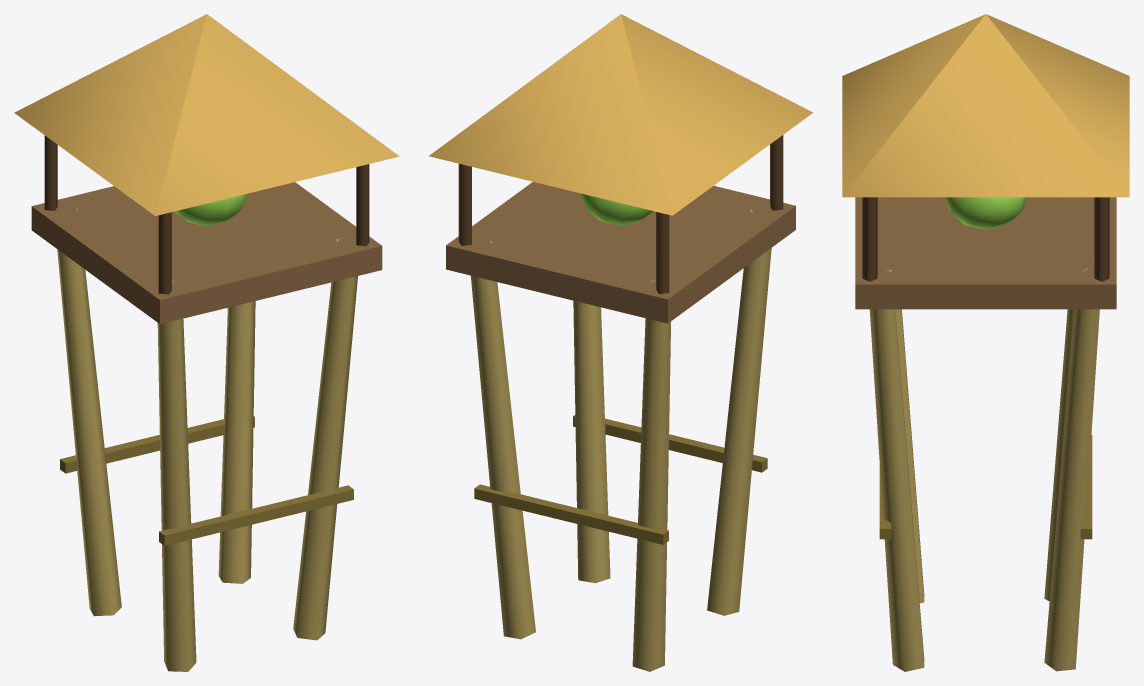
The model's file is level1.glb.
3 views of the same model, side by side, from view 1: azimuth 30°, elevation 25°; view 2: azimuth 150°, elevation 25°; view 3: azimuth 270°, elevation 25° (orthographic).
Parts seen in each view (by area): view 1: object 12, object 7, object 1, object 4, object 3, object 2, object 5, object 6, turret, object 10, object 11, object 8; view 2: object 12, object 7, object 3, object 2, object 1, object 4, object 6, object 5, turret, object 9, object 8, object 10; view 3: object 12, object 7, object 2, object 4, turret, object 1, object 3, object 9, object 11, object 6.
Boxes of the visible parts, x1,y1,x2,y2 form: object 12: [14, 14, 399, 215]; object 7: [31, 182, 382, 324]; object 1: [57, 208, 121, 616]; object 4: [293, 239, 357, 640]; object 3: [157, 280, 196, 671]; object 2: [218, 301, 255, 583]; object 5: [159, 485, 353, 545]; object 6: [60, 416, 254, 473]; turret: [174, 193, 247, 226]; object 10: [158, 212, 171, 294]; object 11: [356, 164, 369, 246]; object 8: [44, 135, 57, 210]; object 12: [429, 14, 813, 215]; object 7: [446, 182, 795, 323]; object 3: [707, 209, 771, 615]; object 2: [470, 239, 535, 639]; object 1: [632, 280, 670, 671]; object 4: [573, 300, 610, 583]; object 6: [474, 484, 668, 544]; object 5: [573, 415, 767, 472]; turret: [580, 193, 653, 225]; object 9: [458, 163, 471, 245]; object 8: [656, 212, 669, 293]; object 10: [770, 135, 783, 210]; object 12: [842, 14, 1129, 197]; object 7: [855, 197, 1116, 309]; object 2: [1044, 268, 1099, 671]; object 4: [869, 269, 924, 671]; turret: [944, 197, 1027, 229]; object 1: [1044, 309, 1074, 601]; object 3: [895, 309, 924, 603]; object 9: [1094, 197, 1109, 281]; object 11: [862, 197, 877, 281]; object 6: [1080, 435, 1092, 539].
Size of the model in its own units: 1.48 by 3.53 by 1.48.
